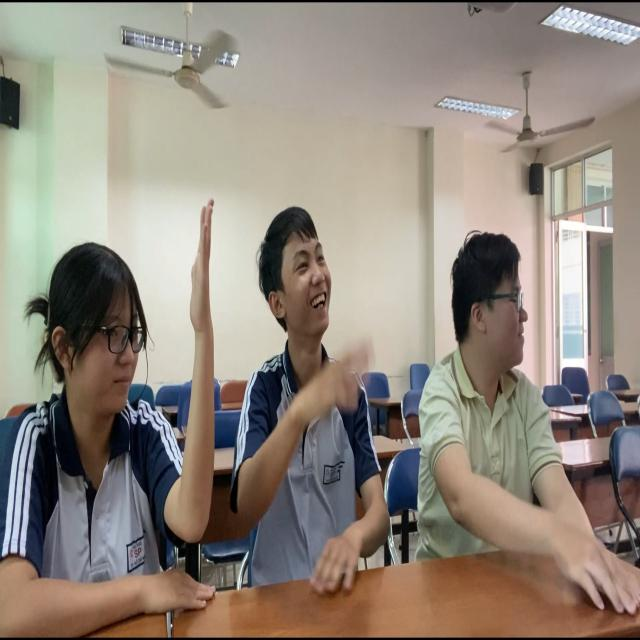raise_hand: (1, 171, 224, 640)
